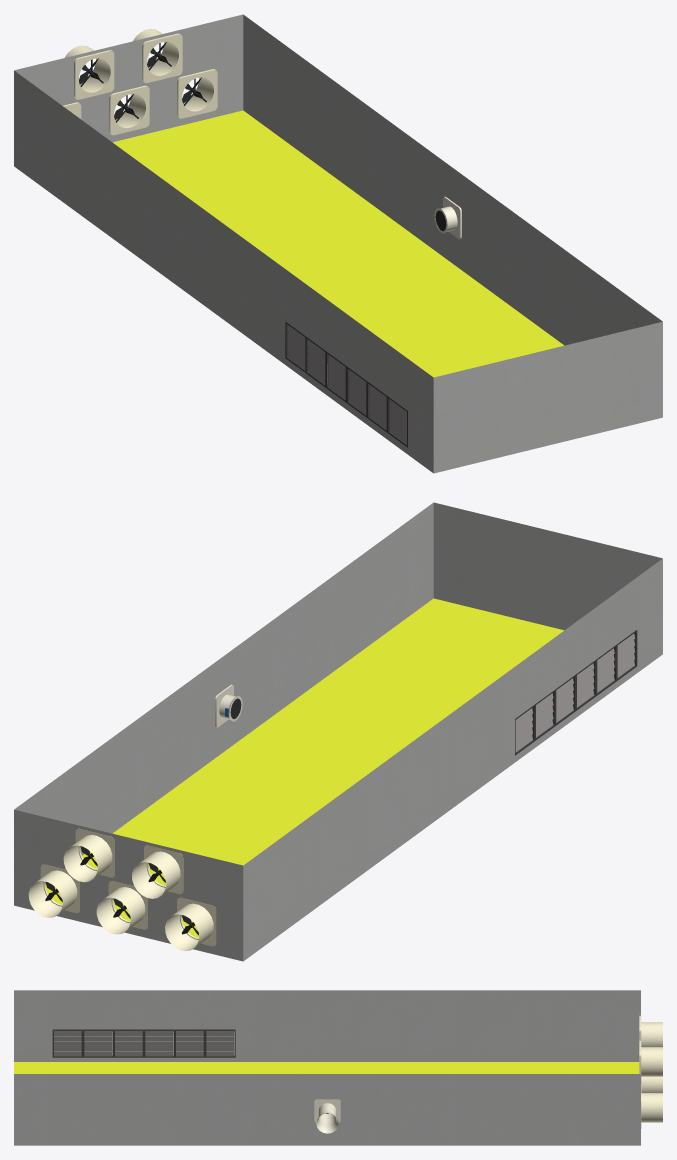
3 views of the same model, one above another, from view 1: azimuth 30°, elevation 25°; view 2: azimuth 150°, elevation 25°; view 3: azimuth 270°, elevation 25° (orthographic). The views are drawn at different scales.
Visible parts, largest first — view 1: Floor, Wall_Left, Wall_Right, Wall_Font, Wall_Back, DA 17K System, BF55 Gable Fans_3, BF55 Gable Fans_4, BF55 Gable Fans_5, BF55 Gable Fans_1, DA 17K System_Plane, DA 820; view 2: Floor, Wall_Left, Wall_Right, Wall_Font, Wall_Back, DA 17K System, BF55 Gable Fans_3, BF55 Gable Fans_2, BF55 Gable Fans_4, BF55 Gable Fans_5, BF55 Gable Fans_1, DA 17K System_Plane (+1 smaller); view 3: Wall_Right, Wall_Left, Floor, DA 17K System, DA 820, DA 17K System_Plane, BF55 Gable Fans_4, BF55 Gable Fans_1, BF55 Gable Fans_3, BF55 Gable Fans_5.
Boxes of the visible parts, x1=… form: Floor: x1=113, y1=110, x2=563, y2=377; Wall_Left: x1=14, y1=70, x2=433, y2=473; Wall_Right: x1=243, y1=14, x2=662, y2=345; Wall_Font: x1=433, y1=321, x2=662, y2=473; Wall_Back: x1=14, y1=14, x2=243, y2=142; DA 17K System: x1=285, y1=321, x2=407, y2=447; BF55 Gable Fans_3: x1=65, y1=45, x2=114, y2=99; BF55 Gable Fans_4: x1=133, y1=28, x2=182, y2=83; BF55 Gable Fans_5: x1=109, y1=85, x2=149, y2=135; BF55 Gable Fans_1: x1=177, y1=69, x2=217, y2=118; DA 17K System_Plane: x1=287, y1=325, x2=406, y2=417; DA 820: x1=434, y1=196, x2=461, y2=239; Floor: x1=45, y1=598, x2=563, y2=937; Wall_Left: x1=243, y1=558, x2=662, y2=961; Wall_Right: x1=14, y1=502, x2=433, y2=855; Wall_Font: x1=433, y1=502, x2=662, y2=630; Wall_Back: x1=14, y1=809, x2=243, y2=961; DA 17K System: x1=515, y1=630, x2=637, y2=755; BF55 Gable Fans_3: x1=132, y1=845, x2=183, y2=898; BF55 Gable Fans_2: x1=165, y1=897, x2=216, y2=950; BF55 Gable Fans_4: x1=63, y1=828, x2=114, y2=882; BF55 Gable Fans_5: x1=96, y1=881, x2=147, y2=934; BF55 Gable Fans_1: x1=28, y1=864, x2=79, y2=917; DA 17K System_Plane: x1=515, y1=633, x2=635, y2=725; Wall_Right: x1=14, y1=1074, x2=640, y2=1145; Wall_Left: x1=14, y1=990, x2=640, y2=1061; Floor: x1=14, y1=1062, x2=639, y2=1073; DA 17K System: x1=52, y1=1029, x2=235, y2=1057; DA 820: x1=314, y1=1099, x2=340, y2=1133; DA 17K System_Plane: x1=54, y1=1031, x2=233, y2=1035; BF55 Gable Fans_4: x1=639, y1=1040, x2=662, y2=1082; BF55 Gable Fans_1: x1=641, y1=1086, x2=662, y2=1128; BF55 Gable Fans_3: x1=639, y1=1015, x2=662, y2=1046; BF55 Gable Fans_5: x1=641, y1=1076, x2=662, y2=1092.
Bounding box in the file's own units: 91.75 × 32 × 262.
5 materials, 4 textured.
